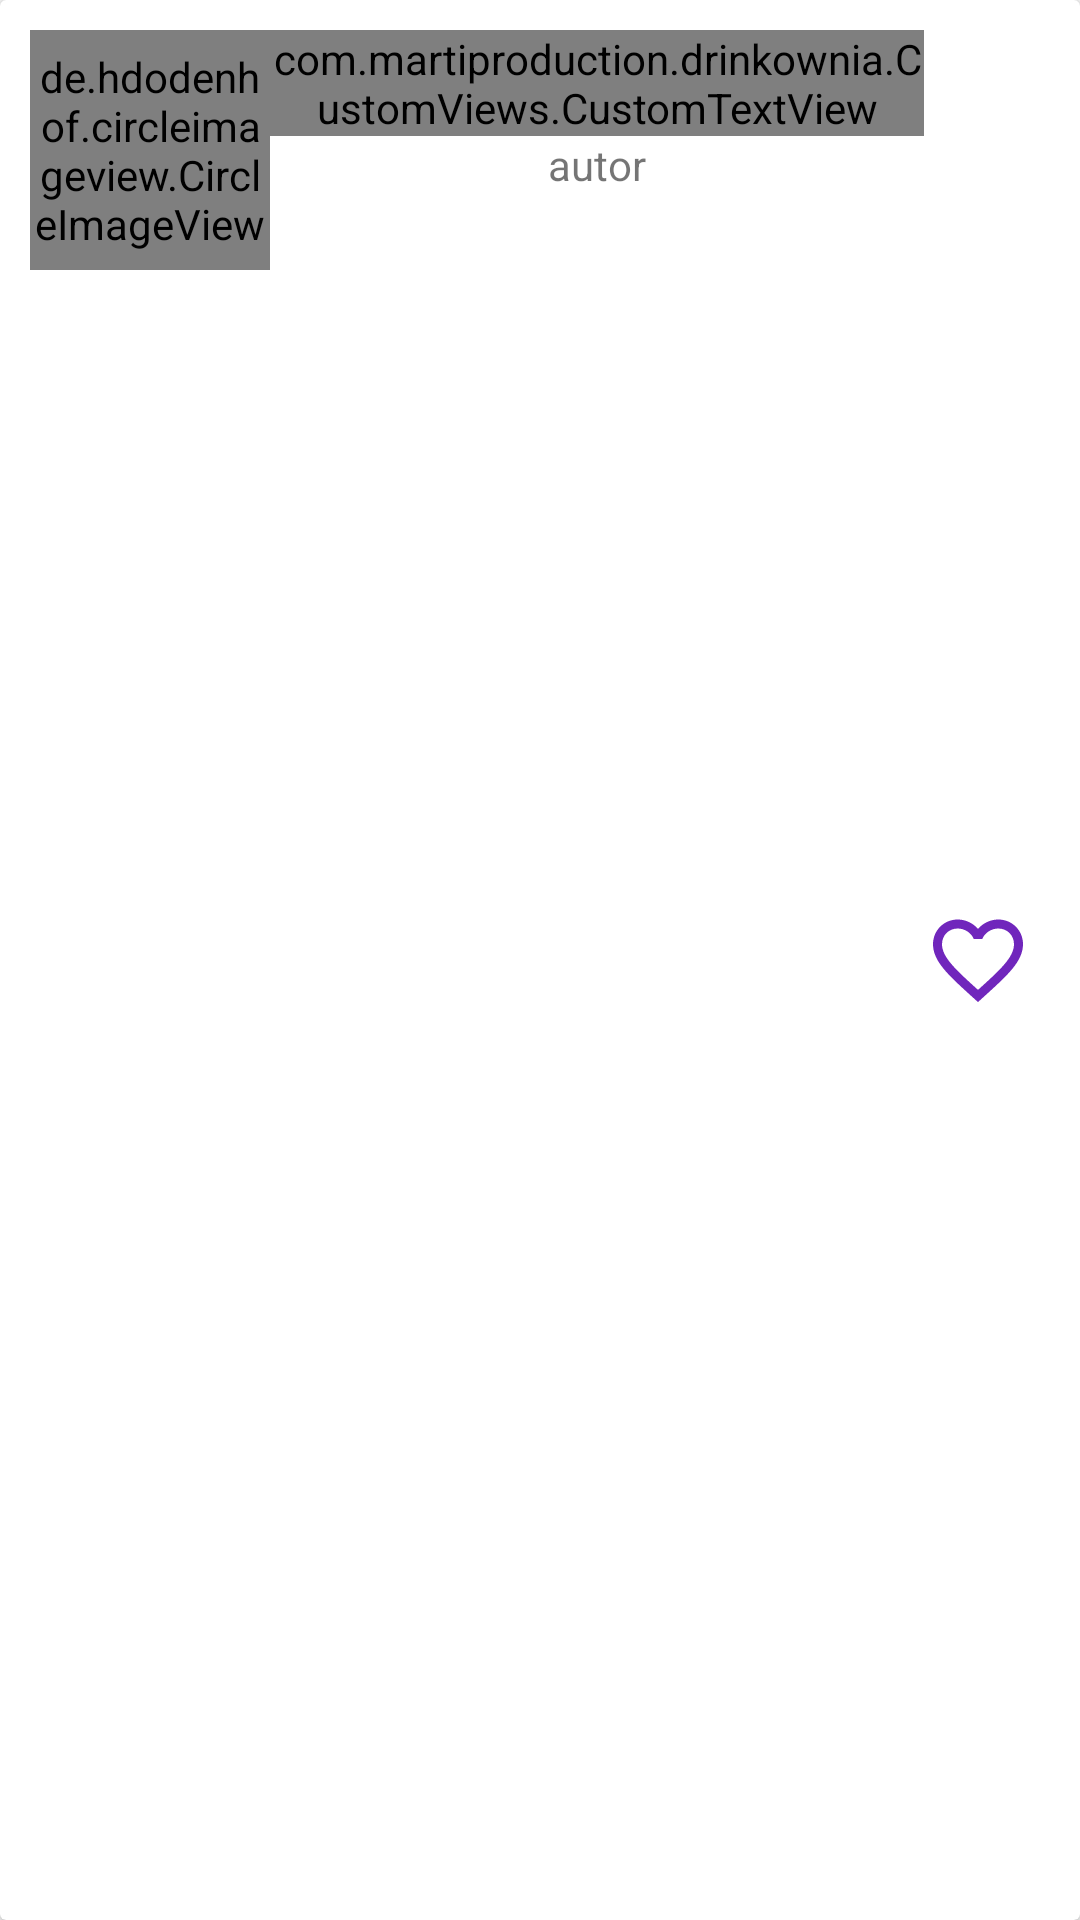

Named icons in this screenshot (1080 x 1920) and their centers, [x,y]:
favorite border: [978,960]
